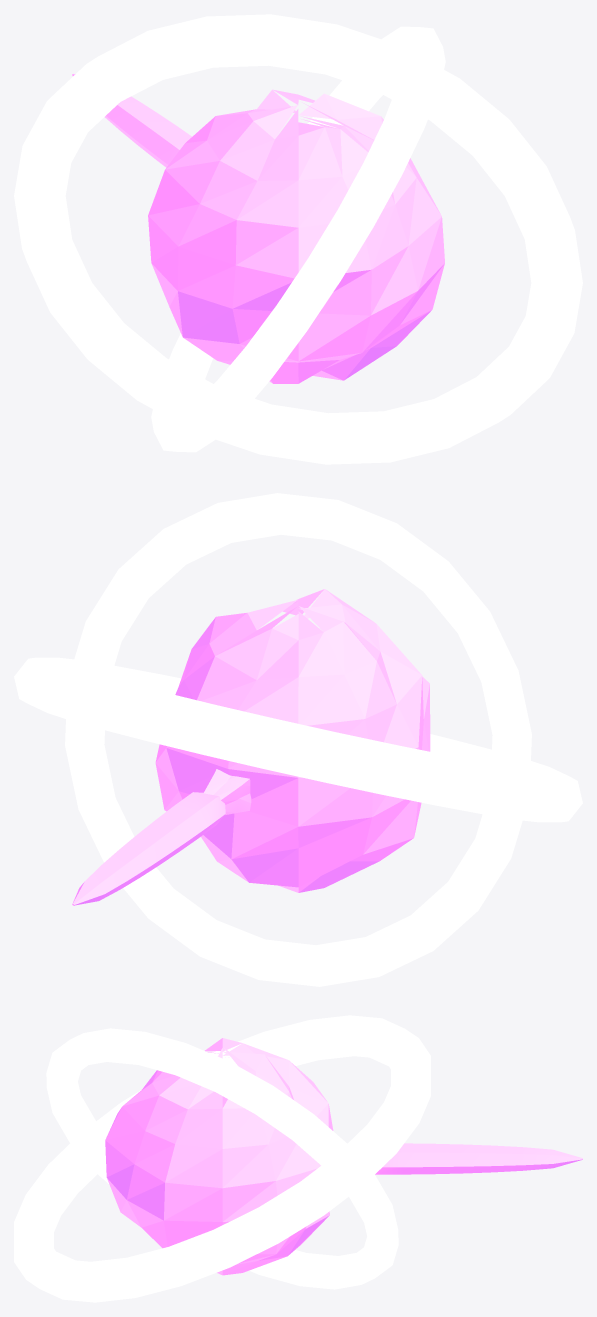
Rendered from vfx-mesh-library-homing-orb-ring-be2f4e1f__21875.glb.
3 renders of one model, top to bottom at view 1: azimuth 30°, elevation 25°; view 2: azimuth 150°, elevation 25°; view 3: azimuth 270°, elevation 25°, orthographic. The views are drawn at different scales.
Visible parts, largest first — view 1: homing-orb-ring; view 2: homing-orb-ring; view 3: homing-orb-ring.
Part boxes in pixels (x1=…): homing-orb-ring: x1=14, y1=14, x2=582, y2=464; homing-orb-ring: x1=14, y1=493, x2=582, y2=986; homing-orb-ring: x1=14, y1=1015, x2=582, y2=1302.
Size of the model in its own units: 0.66 by 0.4763 by 0.8051.
